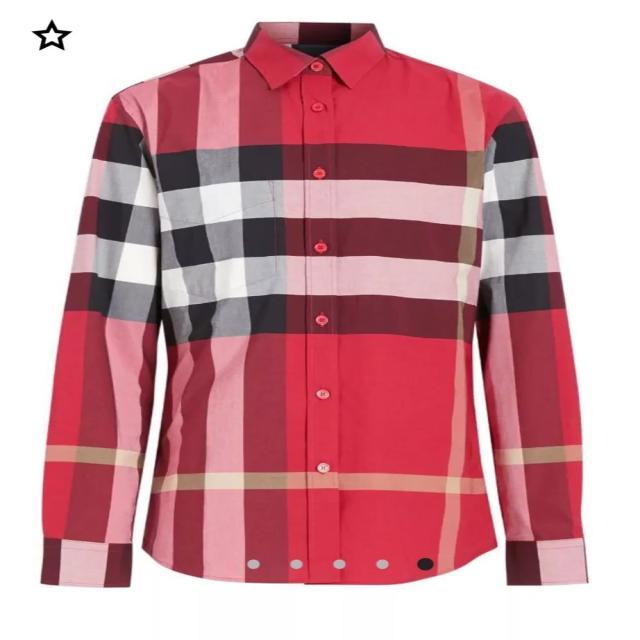long sleeve shirt: (37, 18, 593, 588)
